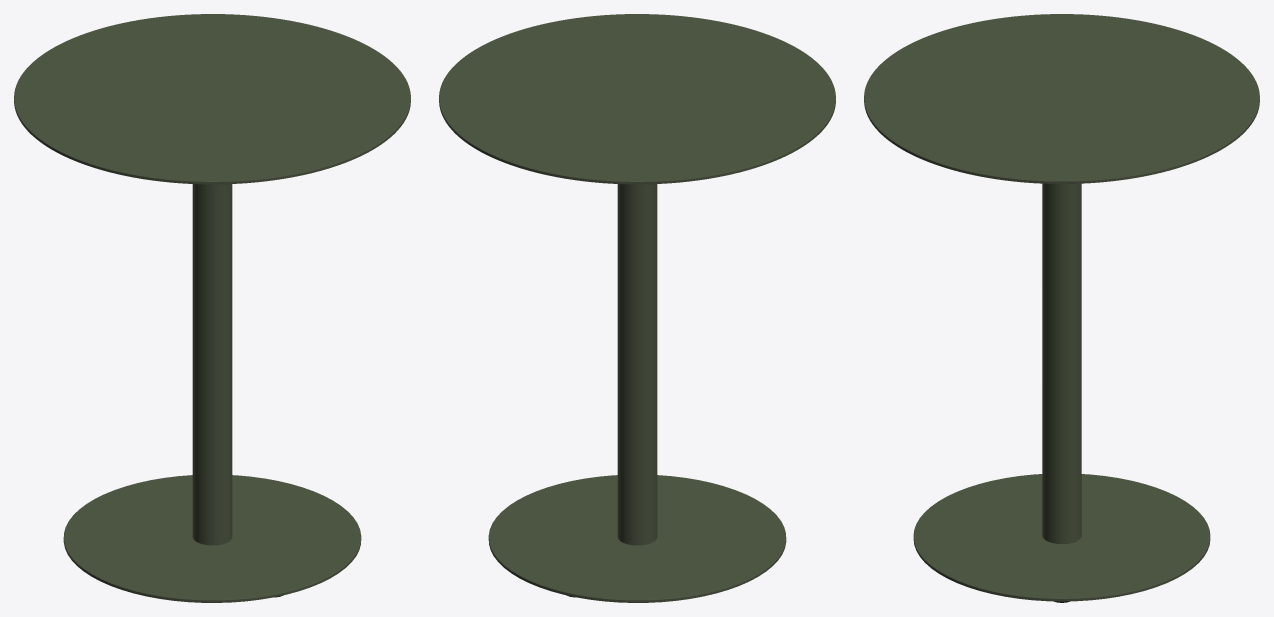
File: table-6-600.glb
3 views of the same model, side by side, from view 1: azimuth 30°, elevation 25°; view 2: azimuth 150°, elevation 25°; view 3: azimuth 270°, elevation 25° (orthographic).
Parts seen in each view (by area): view 1: rb_table_6_600; view 2: rb_table_6_600; view 3: rb_table_6_600.
Part boxes in pixels (x1,y1,x2,y2): rb_table_6_600: (14,14,410,602); rb_table_6_600: (439,14,835,602); rb_table_6_600: (864,14,1259,602).
Bounding box in the file's own units: 0.6 × 0.75 × 0.6.
